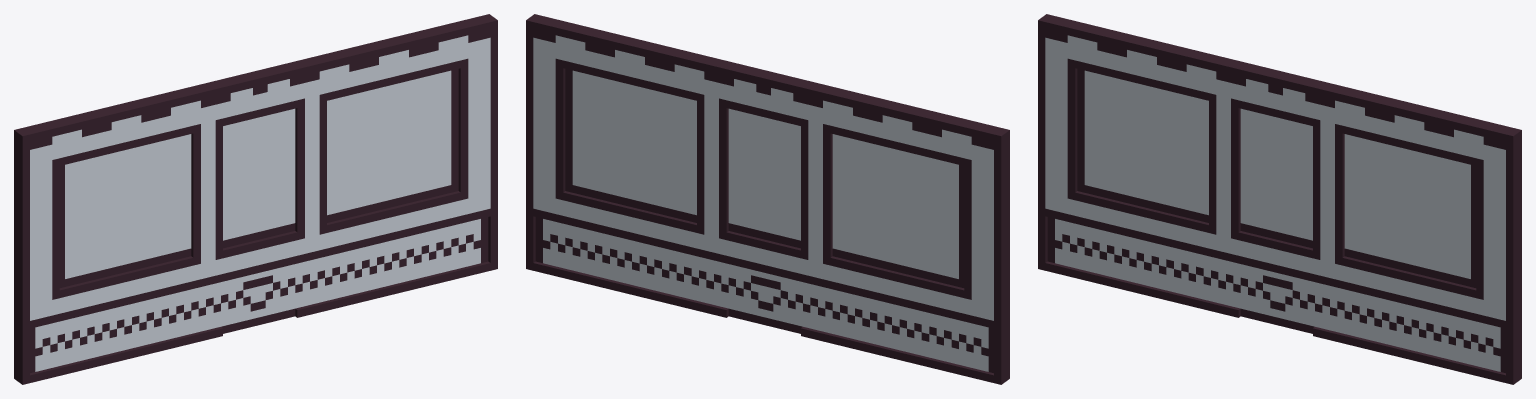
The model's file is Panel Wall (64x32x4).fbx.
3 views of the same model, side by side, from view 1: azimuth 30°, elevation 25°; view 2: azimuth 150°, elevation 25°; view 3: azimuth 330°, elevation 25° (orthographic).
Parts seen in each view (by area): view 1: generated; view 2: generated; view 3: generated.
Part boxes in pixels (x1,y1,x2,y2): generated: (14,14,497,384); generated: (526,14,1009,384); generated: (1038,14,1521,384).
Size of the model in its own units: 2560 by 1280 by 80.
